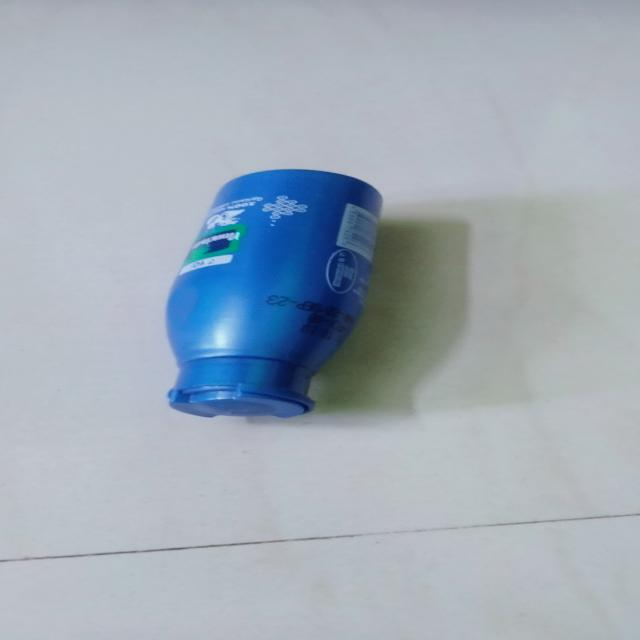oil: (161, 169, 392, 423)
